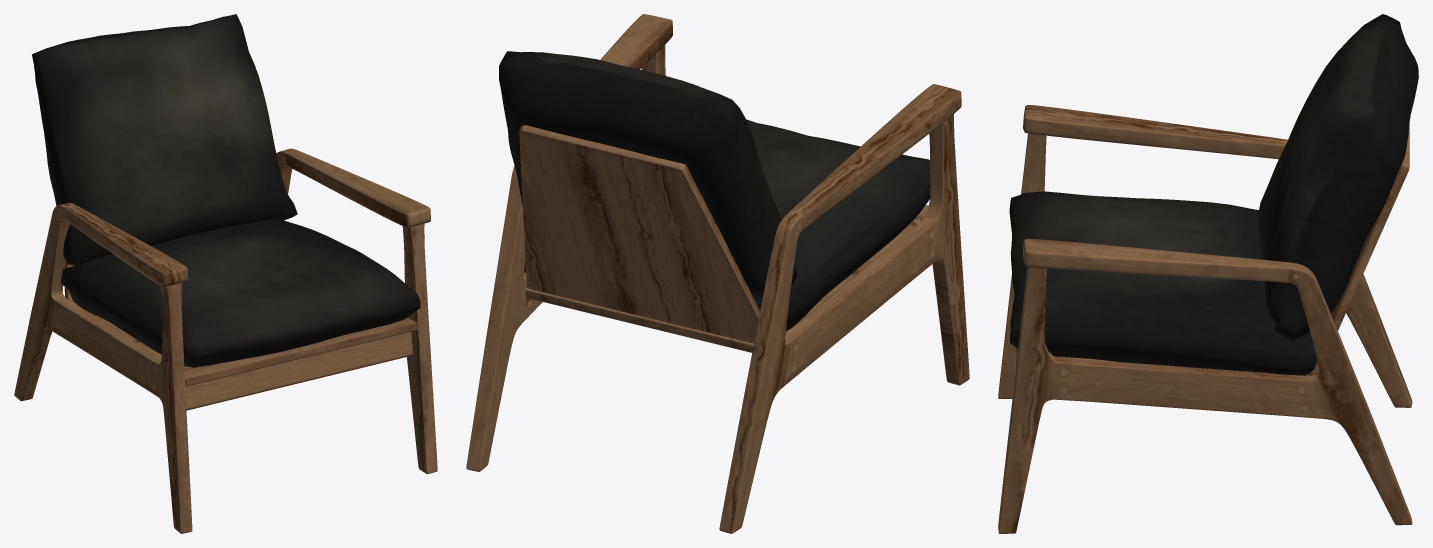
File: armchair.glb
3 views of the same model, side by side, from view 1: azimuth 30°, elevation 25°; view 2: azimuth 150°, elevation 25°; view 3: azimuth 270°, elevation 25° (orthographic). The views are drawn at different scales.
Parts seen in each view (by area): view 1: cushion, frame; view 2: frame, cushion; view 3: cushion, frame.
Boxes of the visible parts, x1,y1,x2,y2 form: cushion: (32, 14, 420, 367); frame: (14, 148, 437, 533); frame: (466, 14, 969, 533); cushion: (499, 51, 930, 330); cushion: (1009, 14, 1418, 375); frame: (998, 105, 1412, 533).
Size of the model in its own units: 0.8204 by 1.02 by 0.9866.
2 materials, 2 textured.
